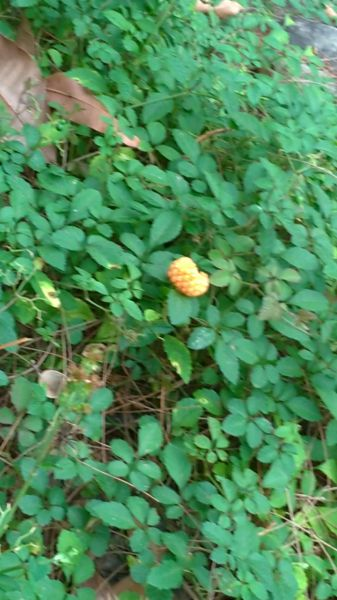eggs: (162, 251, 209, 300)
